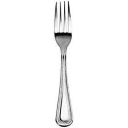fork: (46, 1, 79, 128)
